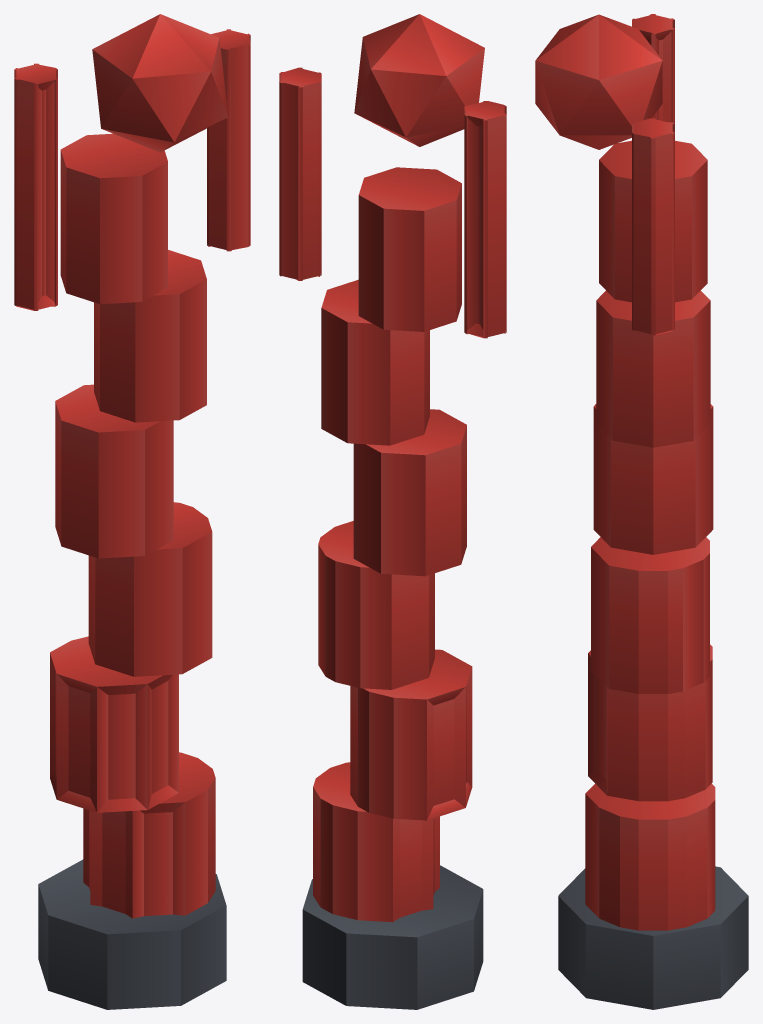
The model's file is dt_inflatable_tube_guy.fbx.
3 renders of one model, left to right at view 1: azimuth 30°, elevation 25°; view 2: azimuth 150°, elevation 25°; view 3: azimuth 270°, elevation 25°, orthographic. The views are drawn at different scales.
Parts seen in each view (by area): view 1: dt_inflatable_tube_guy; view 2: dt_inflatable_tube_guy; view 3: dt_inflatable_tube_guy.
Boxes of the visible parts, box(x1,y1,x2,y2) form: dt_inflatable_tube_guy: box(14, 14, 250, 1009); dt_inflatable_tube_guy: box(279, 14, 506, 1009); dt_inflatable_tube_guy: box(535, 14, 748, 1009).
Size of the model in its own units: 226 by 900 by 182.
